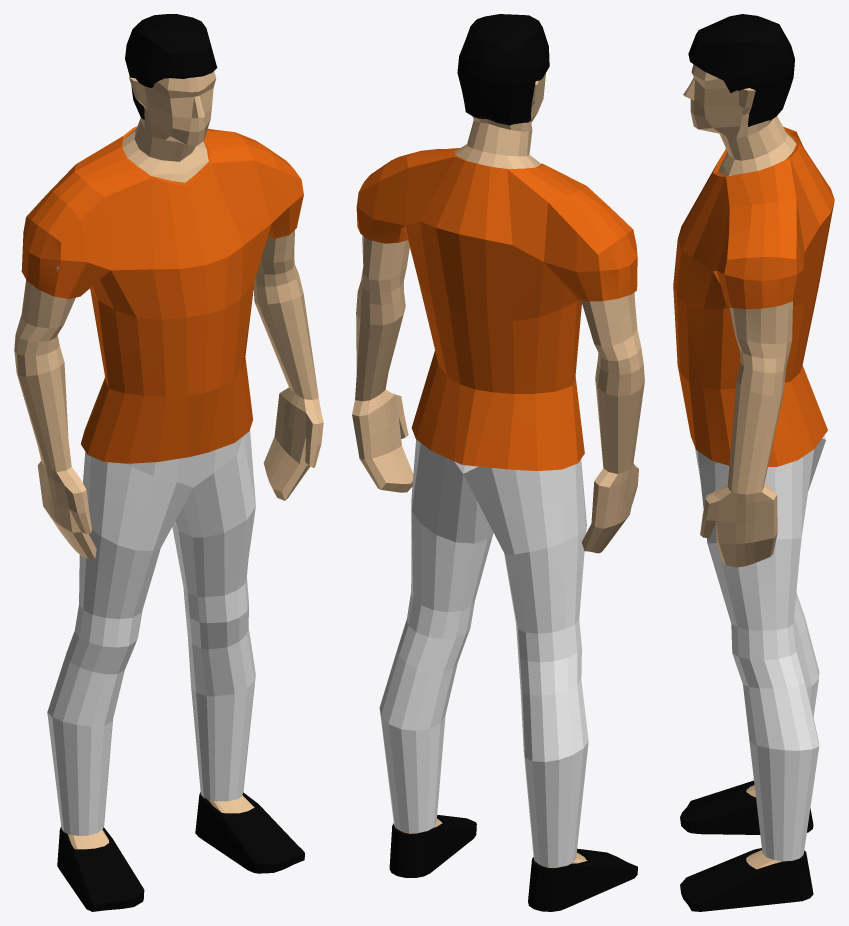
File: chara still 1.fbx
The picture shows the model from 3 angles, left to right: view 1: azimuth 30°, elevation 25°; view 2: azimuth 150°, elevation 25°; view 3: azimuth 270°, elevation 25°; orthographic projection.
Visible parts, largest first — view 1: Human full_Material.004_0; view 2: Human full_Material.004_0; view 3: Human full_Material.004_0.
Part boxes in pixels (x1,y1,x2,y2): Human full_Material.004_0: (14, 14, 323, 911); Human full_Material.004_0: (352, 14, 644, 911); Human full_Material.004_0: (673, 14, 834, 911).
Bounding box in the file's own units: 130 × 364 × 63.65.
